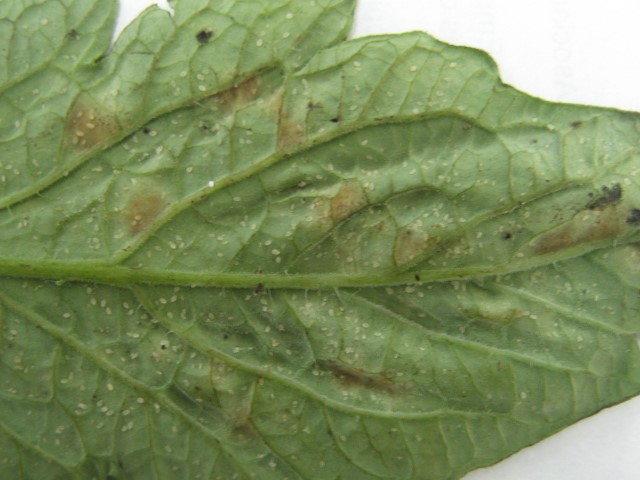cladosporium: (519, 209, 632, 262), (124, 182, 175, 238), (213, 71, 265, 115), (72, 102, 114, 145), (338, 177, 369, 224), (276, 119, 316, 153), (395, 225, 425, 265)
